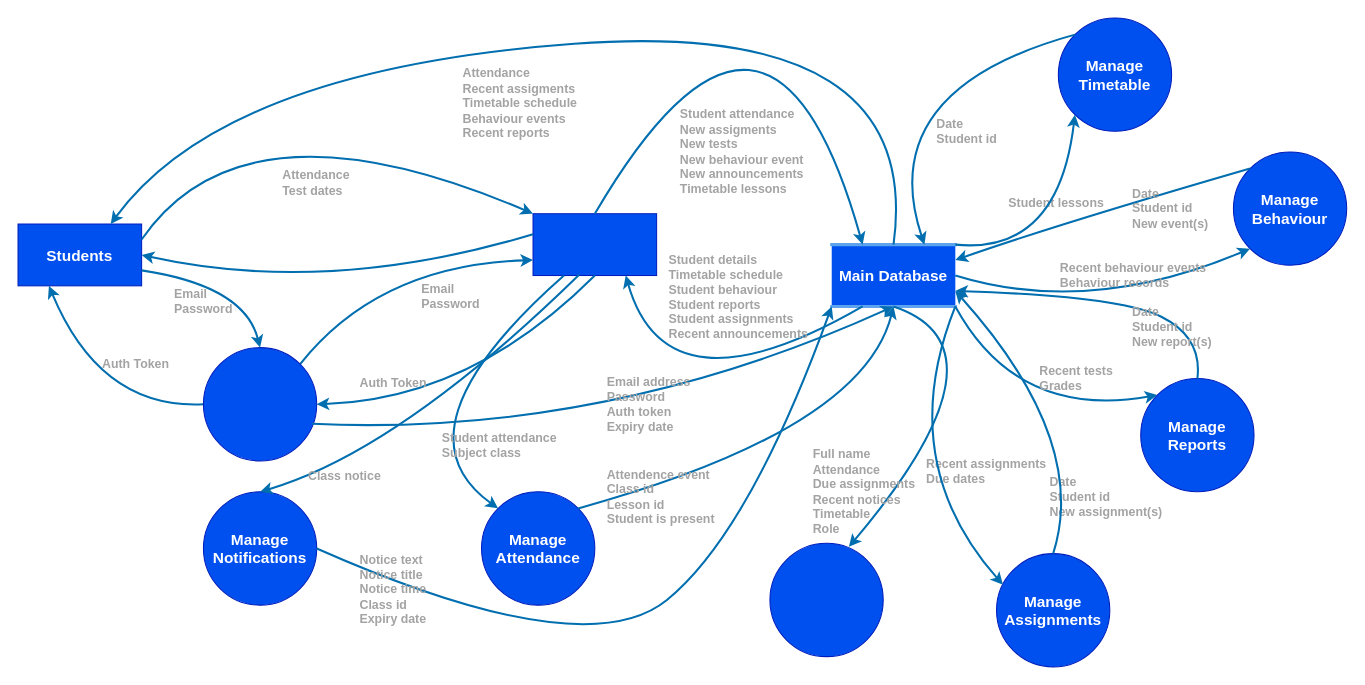
This 1365x685 diagram has some shape labels left out. The shapes that lost their labels are listed below. From the top down, each one's centre as x and y in pixels, then its label:
At point (594, 244): "Teachers".
At point (259, 404): "User Authentication".
At point (826, 599): "Manage Dashboard".
